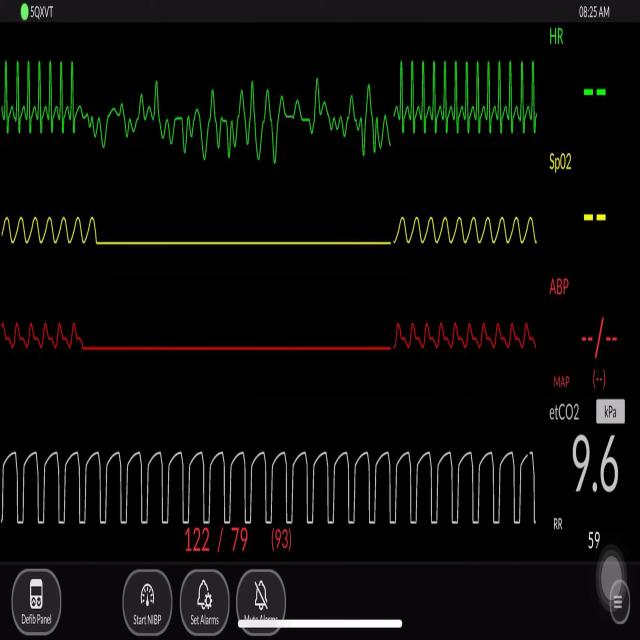danger: (388, 40, 545, 144), (8, 25, 84, 141)
